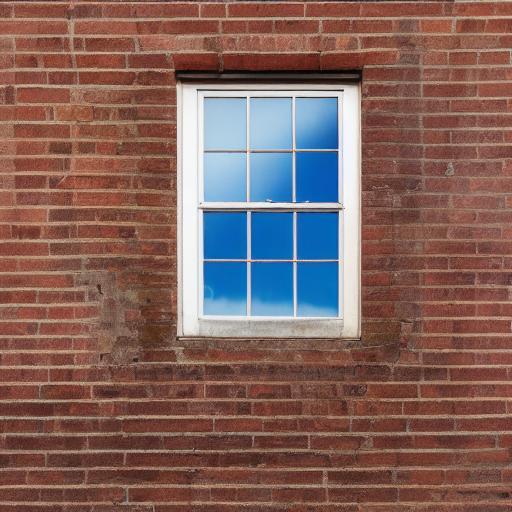Window: (173, 54, 369, 339)
